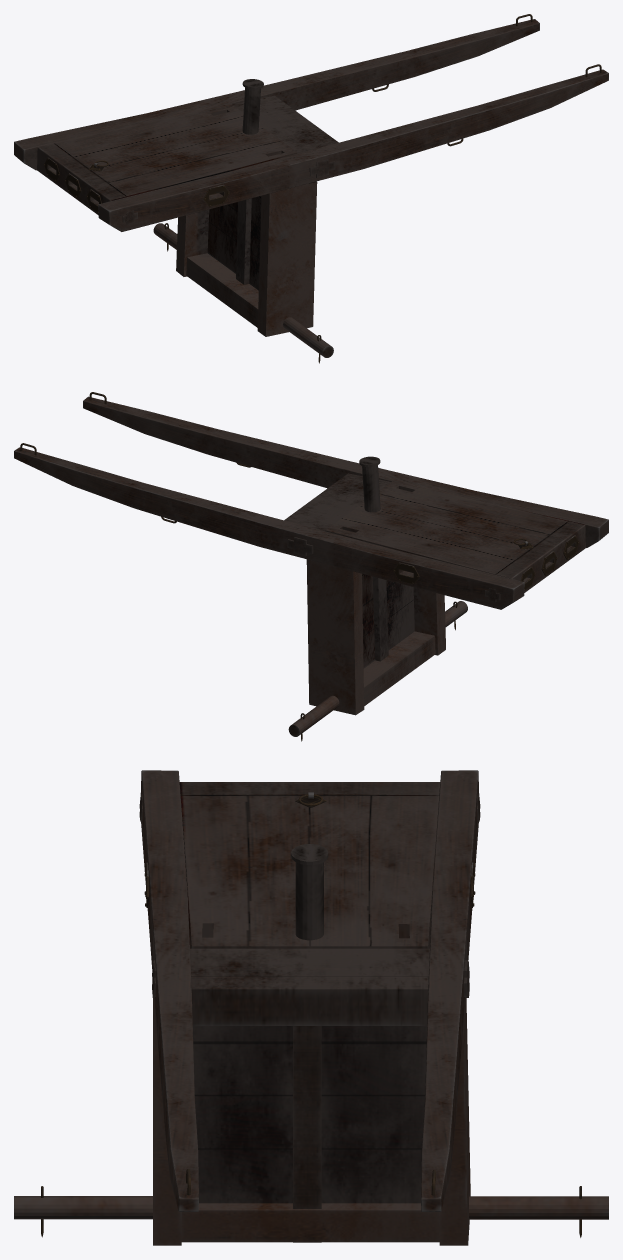
File: SM_Hwacha_Handcart.fbx
3 renders of one model, top to bottom at view 1: azimuth 30°, elevation 25°; view 2: azimuth 150°, elevation 25°; view 3: azimuth 270°, elevation 25°, orthographic. The views are drawn at different scales.
Parts seen in each view (by area): view 1: SM_Hwacha_Handcart; view 2: SM_Hwacha_Handcart; view 3: SM_Hwacha_Handcart.
Boxes of the visible parts, x1,y1,x2,y2 form: SM_Hwacha_Handcart: [14, 14, 608, 363]; SM_Hwacha_Handcart: [14, 392, 608, 741]; SM_Hwacha_Handcart: [14, 770, 608, 1245].
Bounding box in the file's own units: 230 × 131 × 96.12.
Materials: 1 (1 with a texture image).
